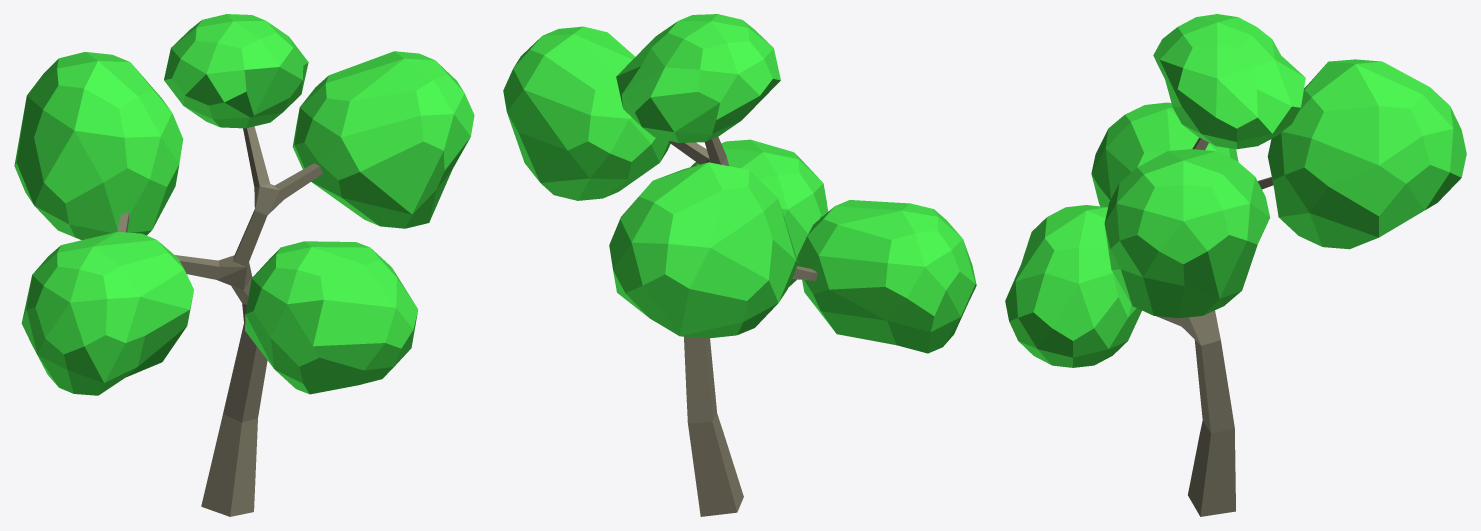
File: Birch 2.fbx
3 renders of one model, left to right at view 1: azimuth 30°, elevation 25°; view 2: azimuth 150°, elevation 25°; view 3: azimuth 270°, elevation 25°, orthographic.
Parts seen in each view (by area): view 1: Leaf 3, Leaf 2, Leaf 4, Leaf 5, Leaf 1, Trunk Pre Cut; view 2: Leaf 3, Leaf 4, Leaf 2, Leaf 1, Trunk Pre Cut, Leaf 5; view 3: Leaf 3, Leaf 2, Leaf 5, Leaf 1, Trunk Pre Cut, Leaf 4.
Boxes of the visible parts, bbox=[...] form: Leaf 3: bbox=[14, 52, 183, 239]; Leaf 2: bbox=[292, 51, 474, 228]; Leaf 4: bbox=[21, 232, 193, 395]; Leaf 5: bbox=[245, 241, 418, 394]; Leaf 1: bbox=[164, 14, 308, 128]; Trunk Pre Cut: bbox=[117, 126, 322, 516]; Leaf 3: bbox=[609, 162, 798, 338]; Leaf 4: bbox=[797, 200, 976, 353]; Leaf 2: bbox=[503, 26, 670, 200]; Leaf 1: bbox=[616, 14, 780, 143]; Trunk Pre Cut: bbox=[669, 137, 817, 516]; Leaf 5: bbox=[690, 139, 828, 287]; Leaf 3: bbox=[1267, 59, 1466, 249]; Leaf 2: bbox=[1104, 149, 1270, 318]; Leaf 5: bbox=[1005, 205, 1141, 367]; Leaf 1: bbox=[1153, 14, 1305, 149]; Trunk Pre Cut: bbox=[1157, 137, 1273, 516]; Leaf 4: bbox=[1091, 102, 1238, 207].
Size of the model in its own units: 1283 by 1364 by 1168.
